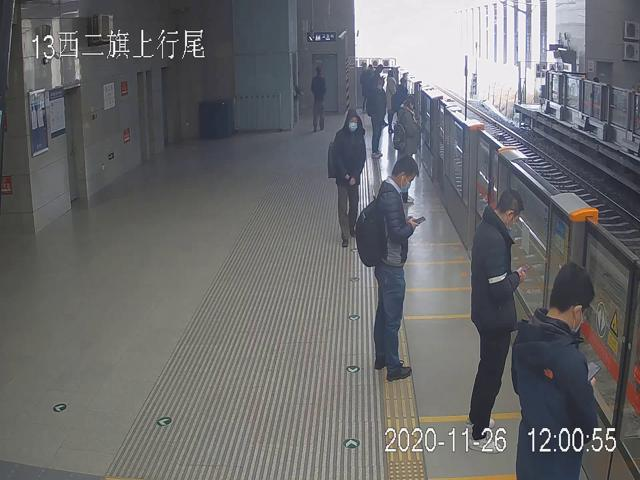person: (467, 190, 525, 449), (372, 155, 415, 382), (335, 107, 367, 245), (396, 98, 422, 203), (368, 76, 388, 160), (310, 63, 328, 132)
